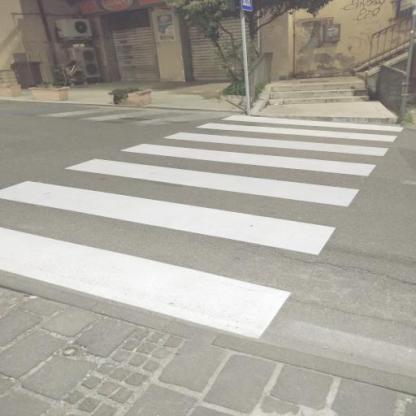crosswalk: (60, 140, 379, 212)
